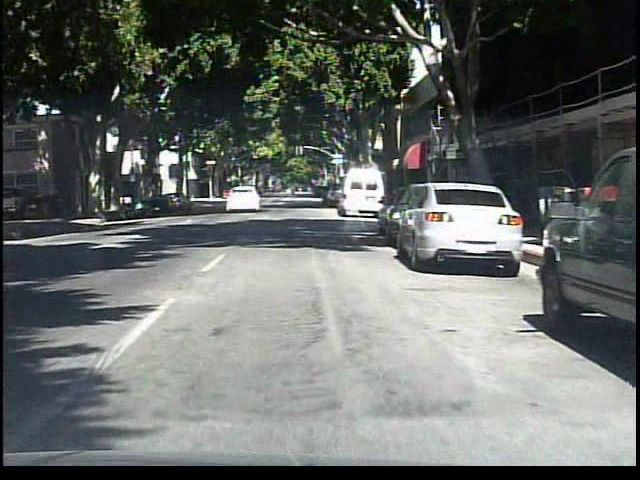person: (287, 173, 303, 205)
